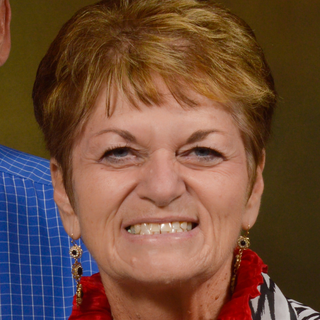eye: (176, 141, 226, 165), (97, 141, 145, 165)
